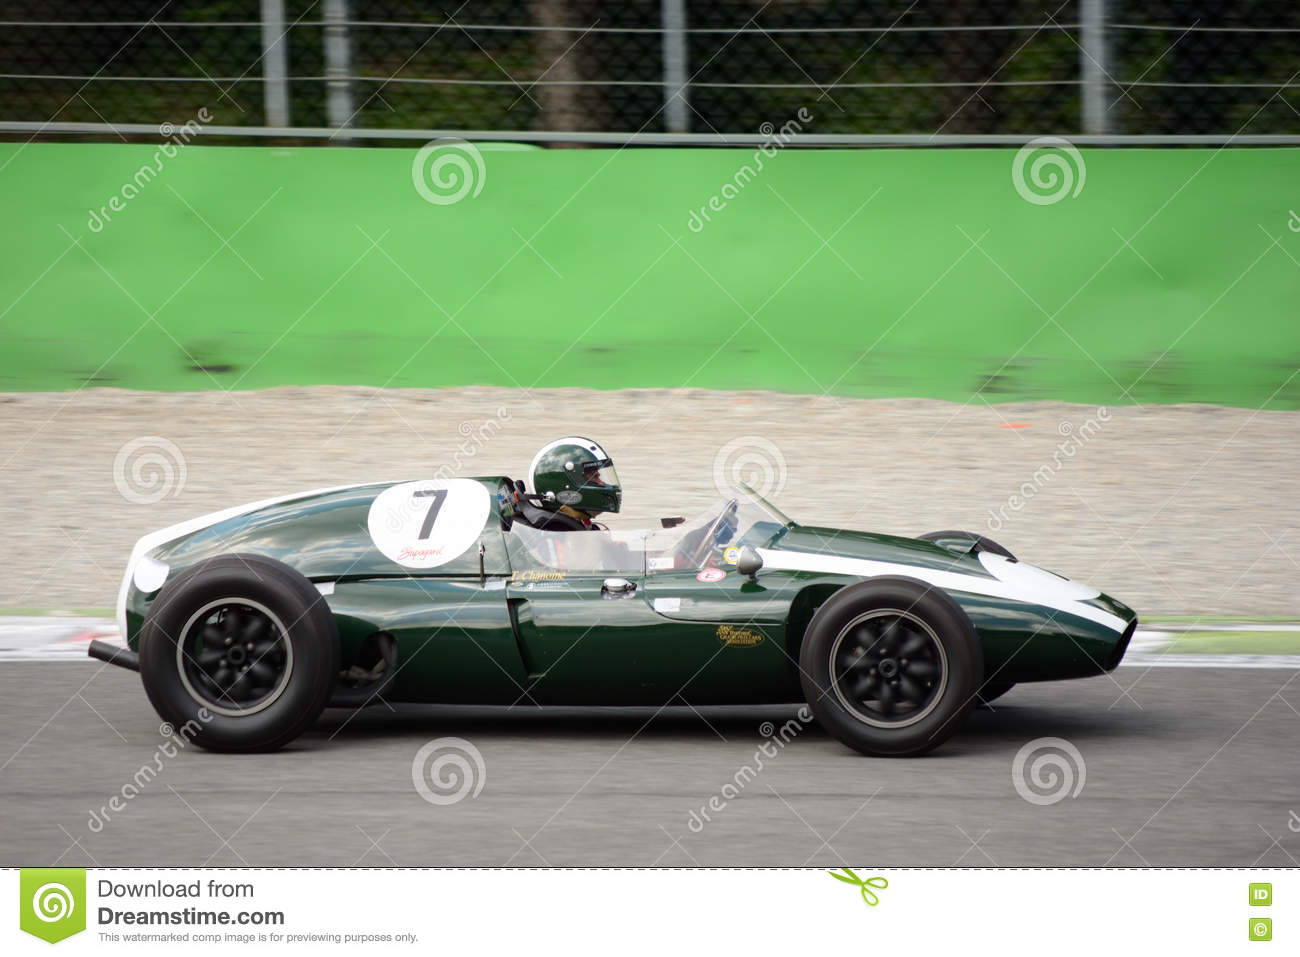f1_car: (68, 416, 1174, 799)
helmet: (513, 428, 644, 531)
